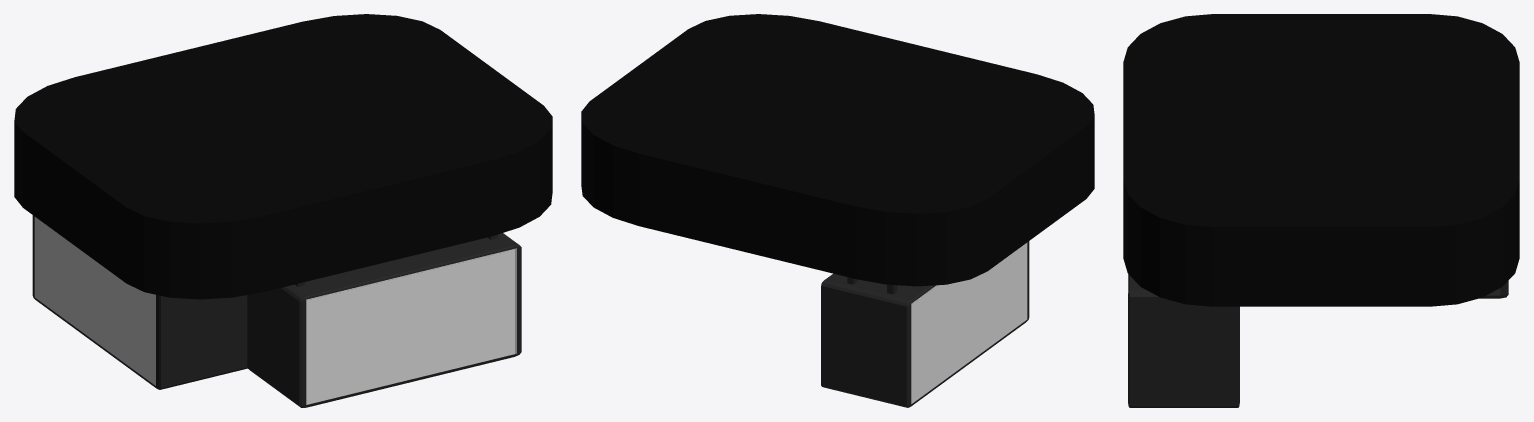
Rendered from Soporte cigarrera.fbx.
3 renders of one model, left to right at view 1: azimuth 30°, elevation 25°; view 2: azimuth 150°, elevation 25°; view 3: azimuth 270°, elevation 25°, orthographic. The views are drawn at different scales.
Visible parts, largest first — view 1: Cube, Cube.005, Cube.009, Cube.002, Cube.014, Cube.012, Cube.001; view 2: Cube, Cube.009, Cube.014, Cube.012; view 3: Cube, Cube.002, Cube.001.
Part boxes in pixels (bbox=[...]): Cube: bbox=[14, 14, 552, 299]; Cube.005: bbox=[306, 248, 516, 404]; Cube.009: bbox=[34, 217, 155, 385]; Cube.002: bbox=[273, 233, 521, 407]; Cube.014: bbox=[32, 215, 205, 389]; Cube.012: bbox=[205, 295, 247, 378]; Cube.001: bbox=[247, 290, 273, 387]; Cube: bbox=[581, 14, 1094, 286]; Cube.009: bbox=[911, 242, 1027, 403]; Cube.014: bbox=[864, 241, 1029, 407]; Cube.012: bbox=[821, 273, 876, 397]; Cube: bbox=[1123, 14, 1519, 306]; Cube.002: bbox=[1128, 274, 1183, 407]; Cube.001: bbox=[1184, 304, 1239, 407].
Size of the model in its own units: 203 by 95.23 by 159.
